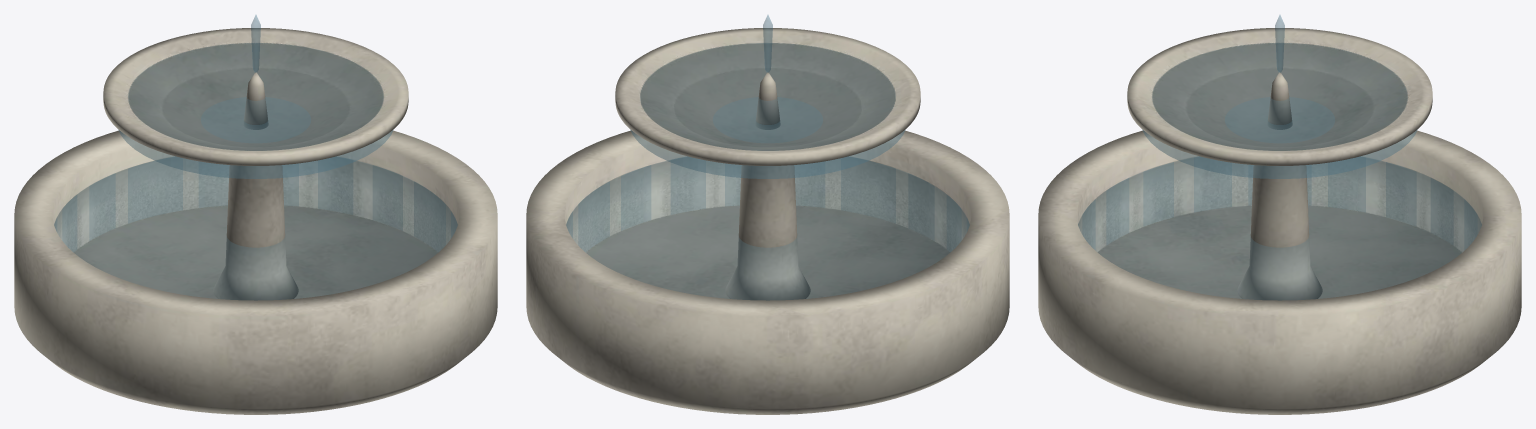
The model's file is small-single.glb.
3 renders of one model, left to right at view 1: azimuth 30°, elevation 25°; view 2: azimuth 150°, elevation 25°; view 3: azimuth 270°, elevation 25°, orthographic.
Visible parts, largest first — view 1: fountain_stone, water; view 2: fountain_stone, water; view 3: fountain_stone, water.
Part boxes in pixels (x1,y1,x2,y2): fountain_stone: [14, 28, 497, 414]; water: [54, 15, 457, 300]; fountain_stone: [526, 28, 1009, 414]; water: [566, 15, 969, 300]; fountain_stone: [1038, 28, 1521, 414]; water: [1078, 15, 1481, 300].
Bounding box in the file's own units: 1.9 × 1.32 × 1.9.
Materials: 2 (1 with a texture image).
